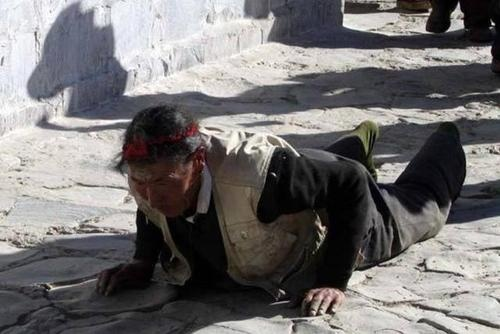falling: (81, 90, 485, 322)
